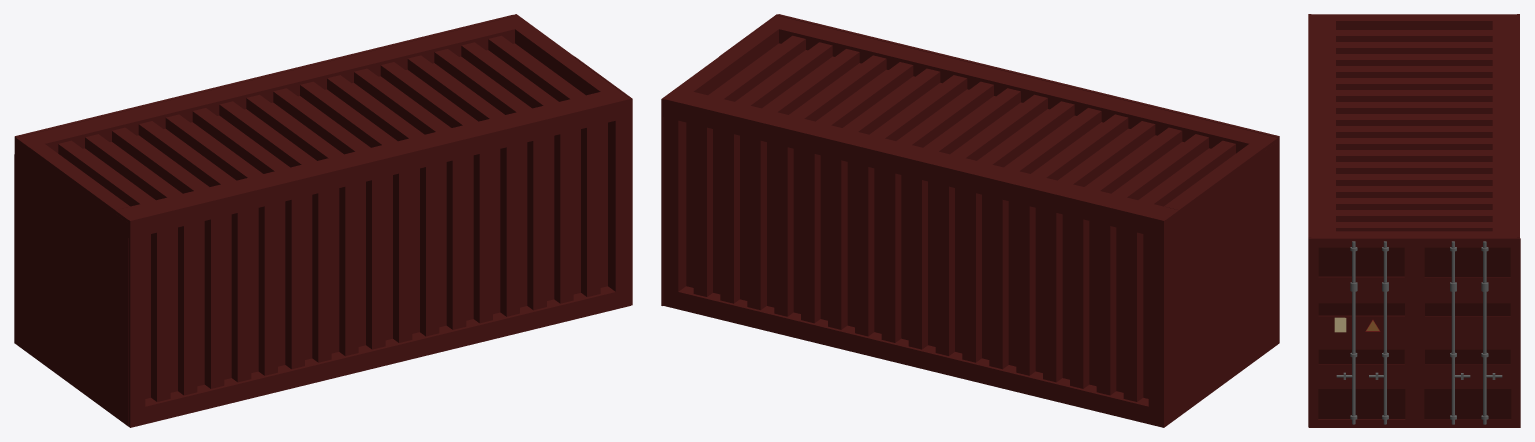
The model's file is Building_CargoContainer_Red.fbx.
The picture shows the model from 3 angles, left to right: view 1: azimuth 30°, elevation 25°; view 2: azimuth 150°, elevation 25°; view 3: azimuth 270°, elevation 25°; orthographic projection. The views are drawn at different scales.
Visible parts, largest first — view 1: Cube; view 2: Cube, Cylinder.003; view 3: Cube, Cylinder.002, Cylinder.003.
Boxes of the visible parts, box(x1,y1,x2,y2) form: Cube: box(14, 14, 630, 427); Cube: box(663, 14, 1279, 427); Cylinder.003: box(661, 56, 719, 305); Cube: box(1308, 14, 1519, 426); Cylinder.002: box(1308, 238, 1414, 427); Cylinder.003: box(1414, 238, 1520, 427).
Bounding box in the file's own units: 521 × 204 × 207.
